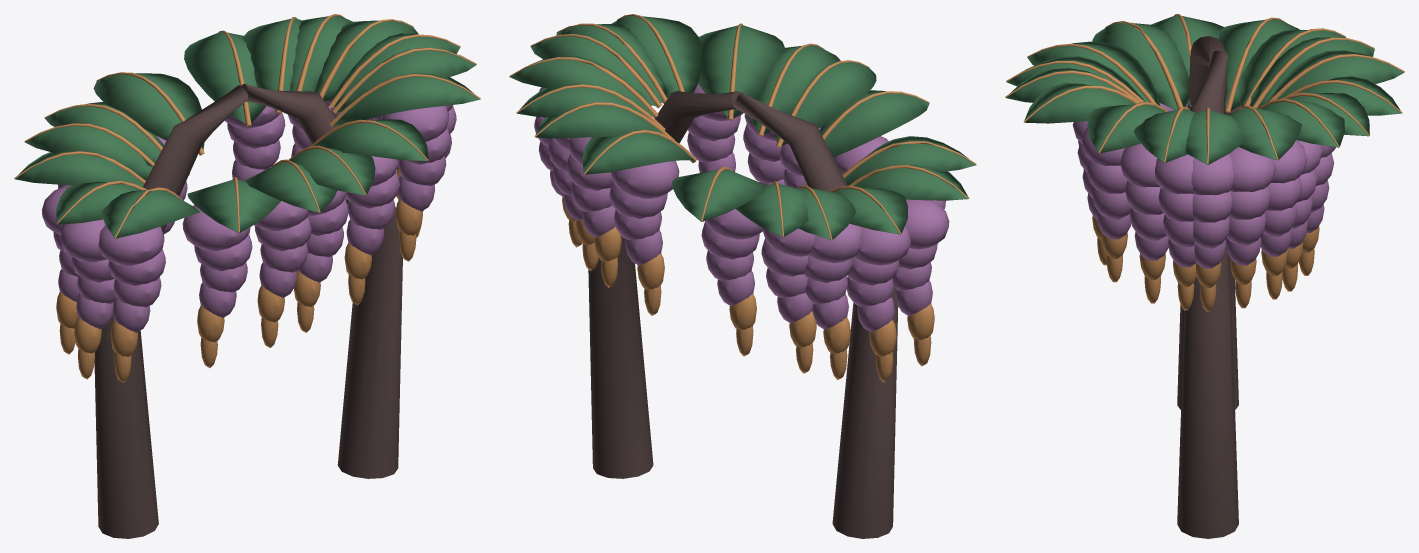
File: vespera_wisteria.glb
3 views of the same model, side by side, from view 1: azimuth 30°, elevation 25°; view 2: azimuth 150°, elevation 25°; view 3: azimuth 270°, elevation 25° (orthographic). The views are drawn at different scales.
Visible parts, largest first — view 1: vespera_wisteria; view 2: vespera_wisteria; view 3: vespera_wisteria.
Boxes of the visible parts, x1,y1,x2,y2 form: vespera_wisteria: (14, 14, 480, 538); vespera_wisteria: (509, 14, 976, 538); vespera_wisteria: (1005, 14, 1404, 538).
Size of the model in its own units: 9.15 by 8.78 by 7.38.
